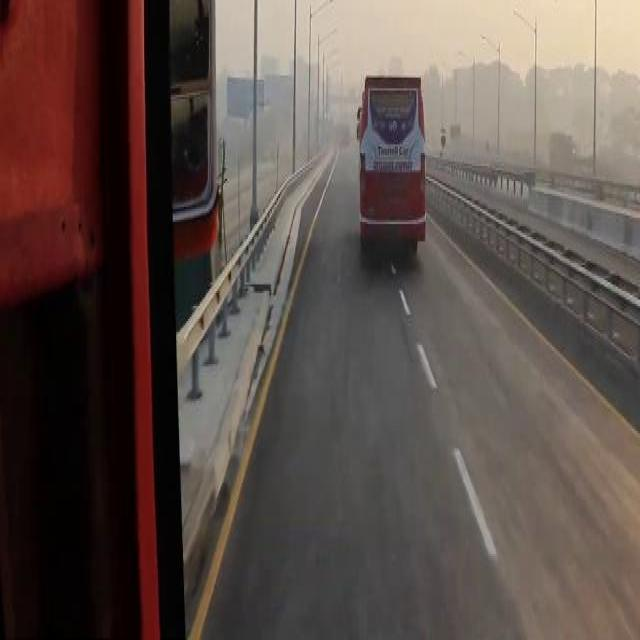bus: (356, 73, 423, 263)
